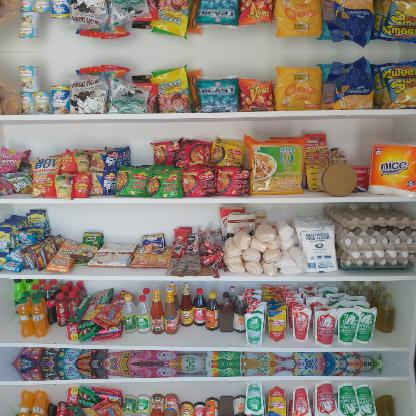Lady-s-Choice: (316, 162, 356, 196)
